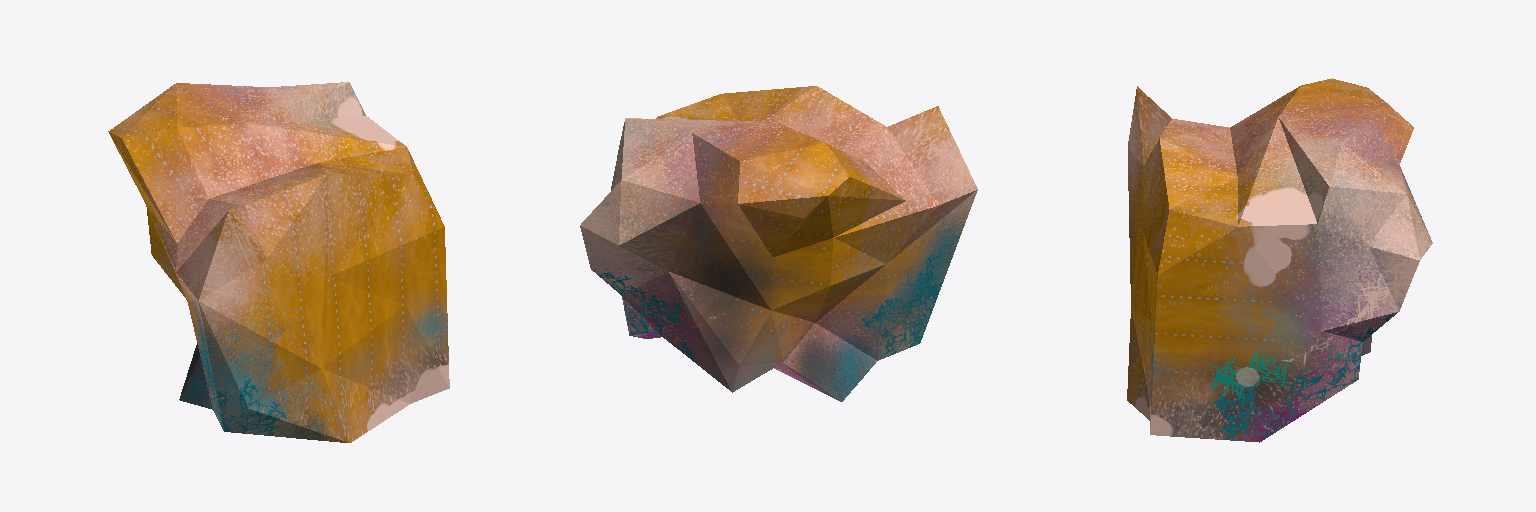
The picture shows the model from 3 angles: view 1: azimuth 30°, elevation 25°; view 2: azimuth 150°, elevation 25°; view 3: azimuth 270°, elevation 25°; orthographic projection.
Parts seen in each view (by area): view 1: Cube_Cube.001_Cube_Cube.001; view 2: Cube_Cube.001_Cube_Cube.001; view 3: Cube_Cube.001_Cube_Cube.001.
Boxes of the visible parts, x1,y1,x2,y2 form: Cube_Cube.001_Cube_Cube.001: [108, 82, 449, 442]; Cube_Cube.001_Cube_Cube.001: [580, 86, 977, 401]; Cube_Cube.001_Cube_Cube.001: [1127, 78, 1432, 442].
Bounding box in the file's own units: 2.02 × 2.02 × 2.
1 materials, 1 textured.